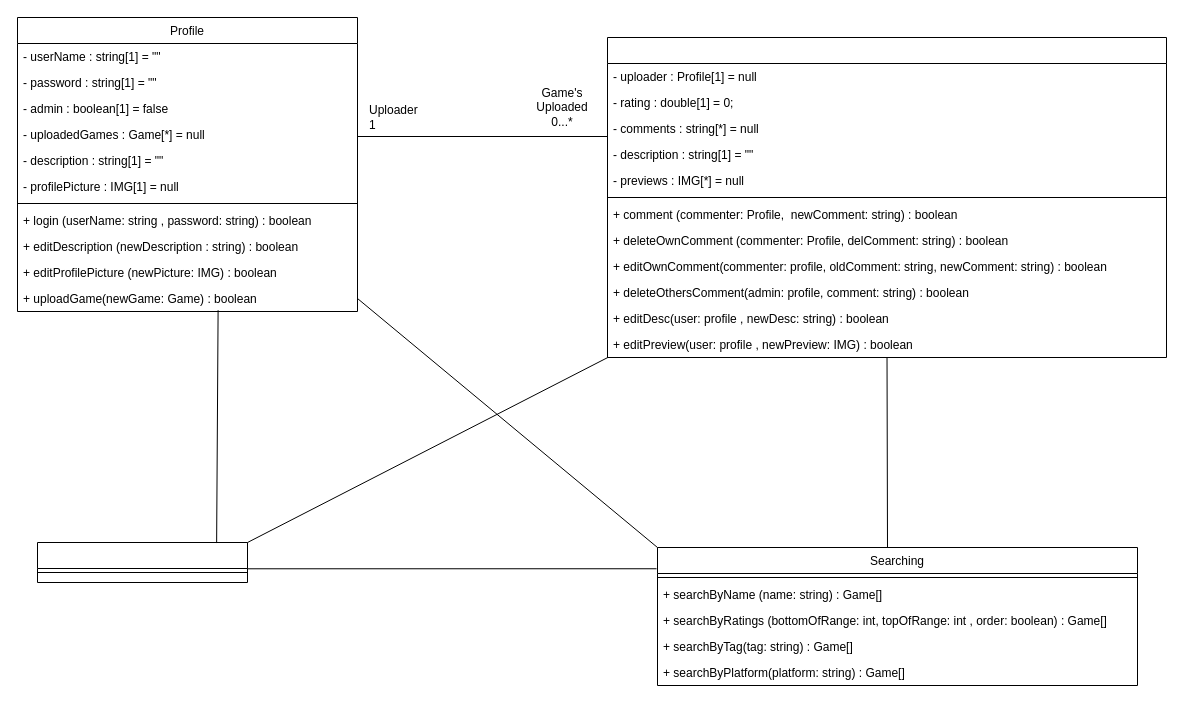
Image size: 1184x706. Some labels were removed from this diagram. Here are the shapes that lost their labels. From the top down, the box of each, then its label:
(606, 36, 1166, 358): Game
(36, 542, 248, 582): Menu
